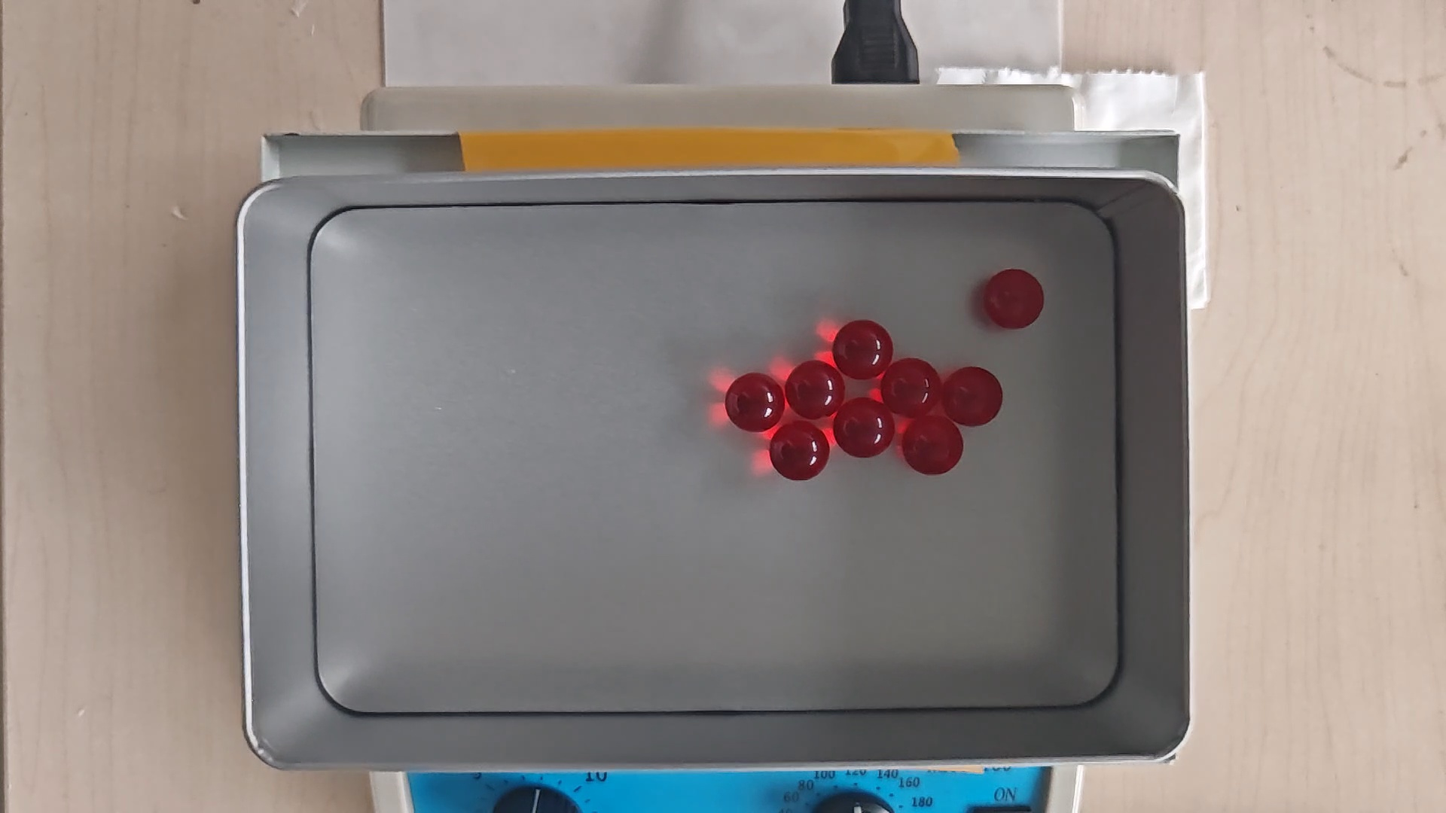ball: (722, 371, 786, 434), (833, 396, 895, 461), (832, 318, 894, 381), (982, 268, 1045, 330), (770, 419, 831, 481), (943, 367, 1004, 429), (784, 361, 846, 419), (904, 415, 963, 475), (882, 357, 940, 418)
container: (309, 202, 1121, 712)
